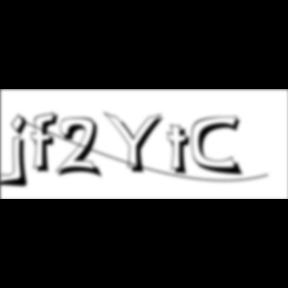2: (56, 117, 106, 181)
C: (192, 115, 246, 178)
Y: (102, 110, 170, 176)
f: (32, 111, 64, 175)
j: (9, 113, 36, 191)
t: (166, 124, 198, 179)
